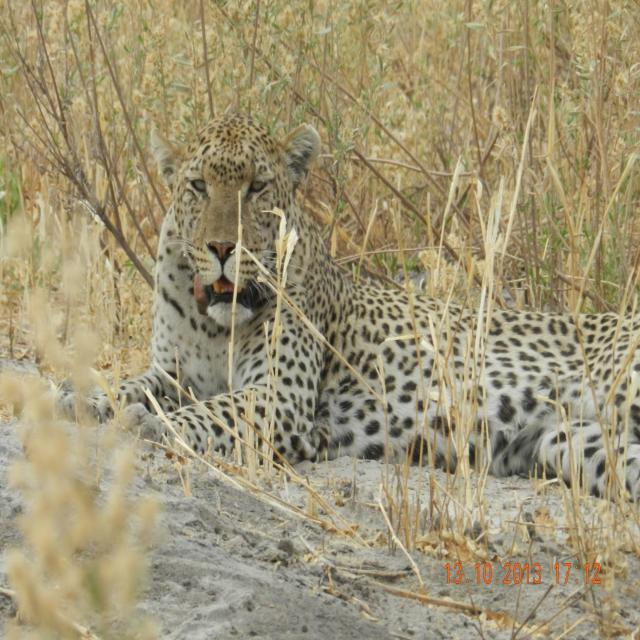Leopard: (83, 122, 640, 504)
